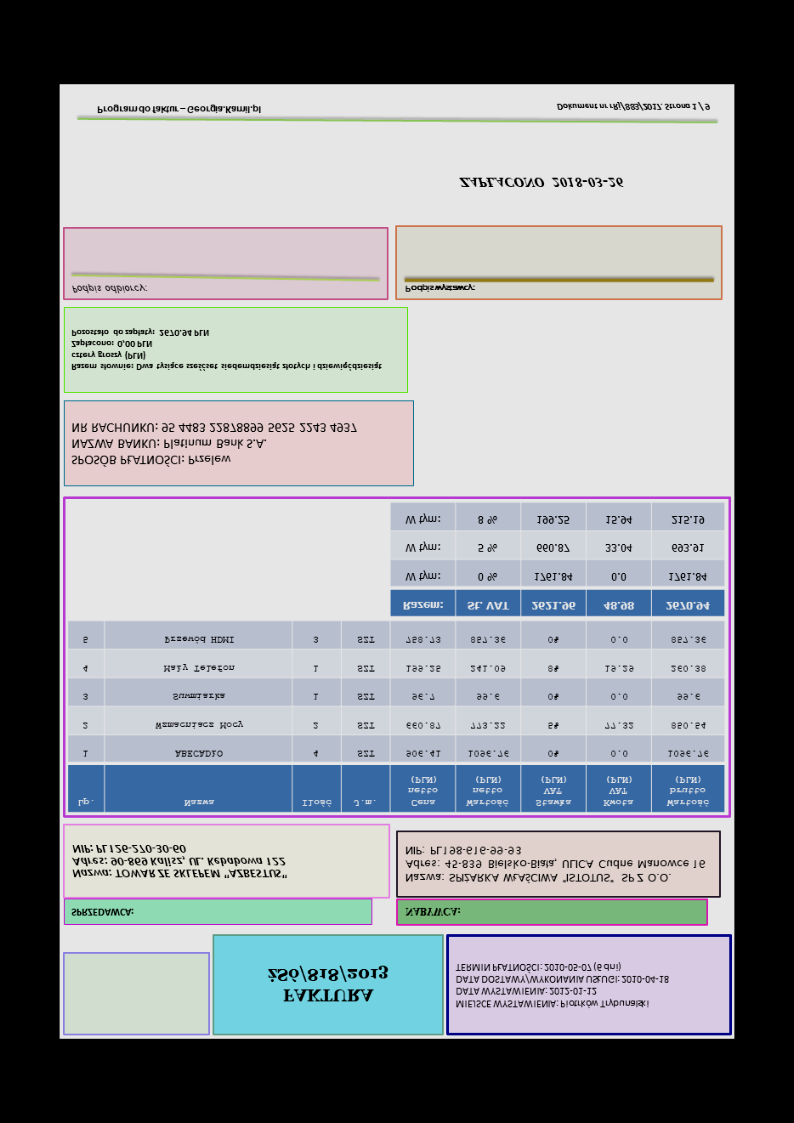Table: (66, 620, 726, 814), (388, 502, 725, 617)
TextBox: (70, 419, 360, 470), (69, 327, 383, 372), (402, 843, 707, 884), (453, 960, 671, 1012), (70, 842, 287, 880), (264, 963, 391, 1005), (456, 174, 626, 191), (95, 103, 263, 117), (555, 99, 712, 113), (69, 281, 150, 296), (68, 905, 135, 919), (403, 281, 475, 294), (403, 904, 462, 918)
